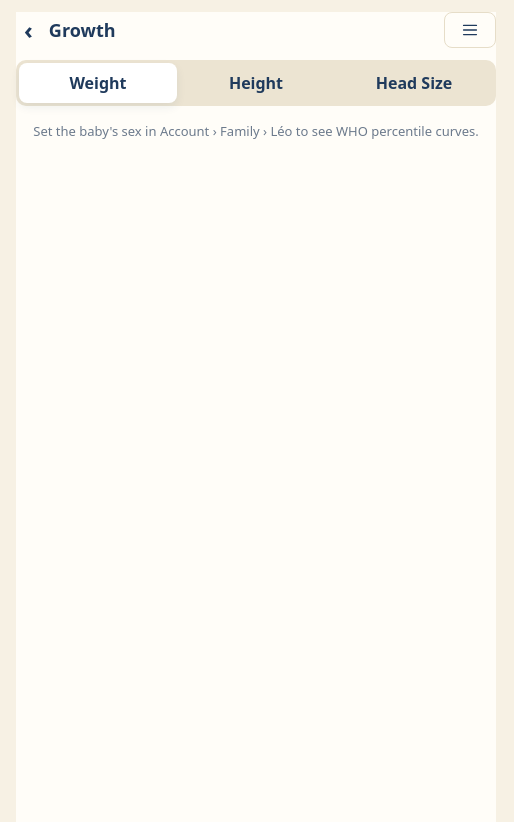
Test: GrowthDetailPage › prompts to set the sex on the child screen when unknown, and still allows the list view
Expected: the text "Set the baby's sex in Account › Family › Léo to see WHO percentile curves." is shown, [16,122,496,142]
Click the button named "Show list". click: (470, 30)
box: [444,12,496,48]
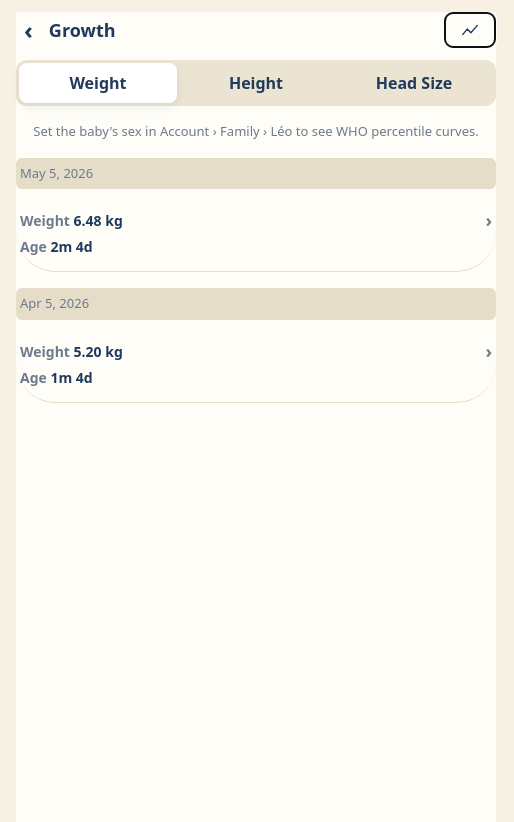
Result: the text "6.48 kg" is shown at [74,211,123,230]
